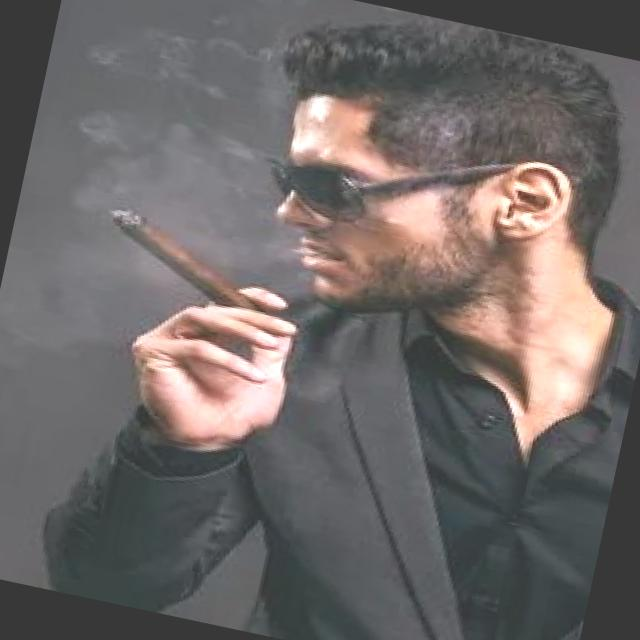cigarette: (86, 204, 289, 328)
